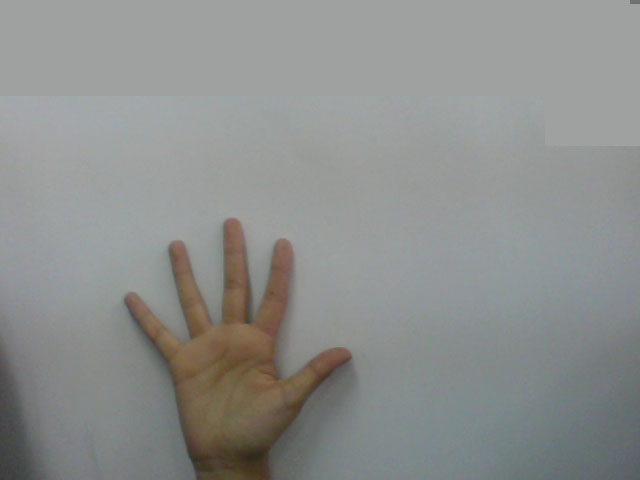hand: (111, 209, 362, 443)
